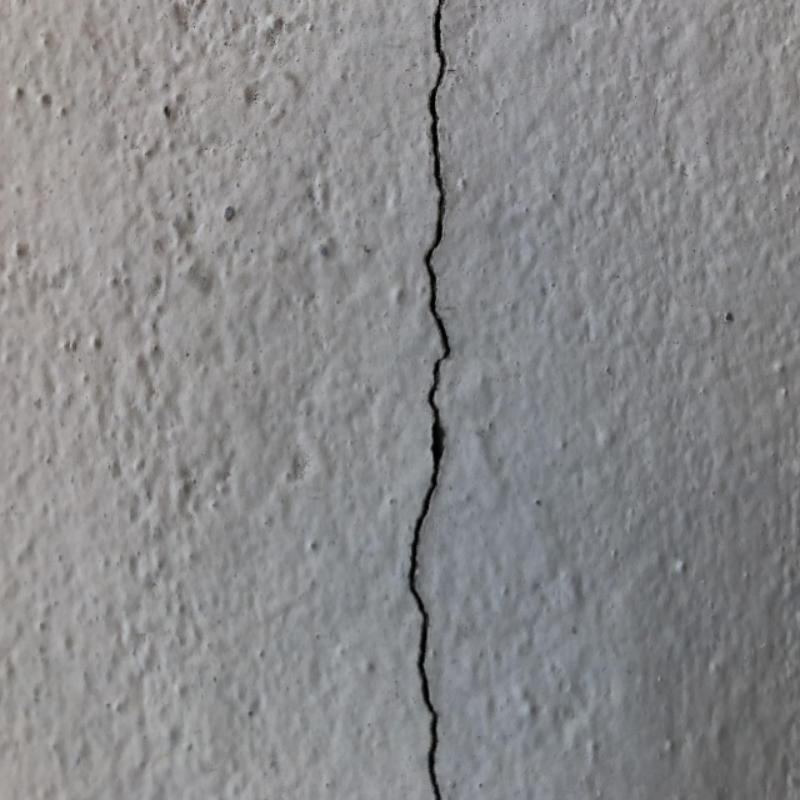pothole: (405, 2, 451, 799)
